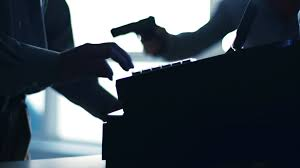gun: (109, 15, 161, 53)
